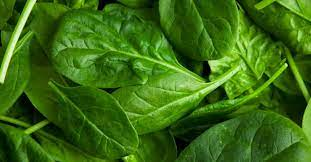spinach: (17, 2, 294, 153)
